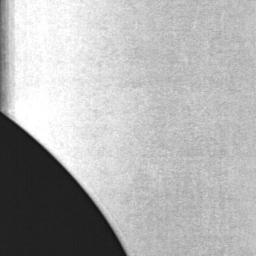Crescent gap: (0, 113, 126, 256)
